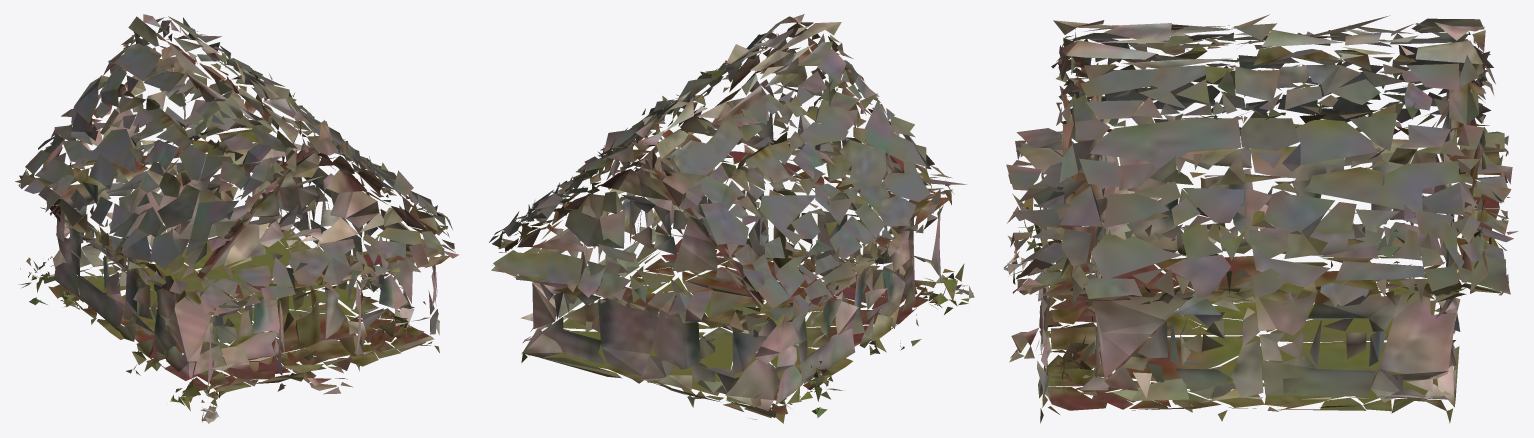
The model's file is loc_sy_creole.glb.
The picture shows the model from 3 angles, left to right: view 1: azimuth 30°, elevation 25°; view 2: azimuth 150°, elevation 25°; view 3: azimuth 270°, elevation 25°; orthographic projection. The views are drawn at different scales.
Visible parts, largest first — view 1: tripo_node_23b4cc7b-c383-4ee2-9d6a-90eb35c721df; view 2: tripo_node_23b4cc7b-c383-4ee2-9d6a-90eb35c721df; view 3: tripo_node_23b4cc7b-c383-4ee2-9d6a-90eb35c721df.
Boxes of the visible parts, x1,y1,x2,y2 form: tripo_node_23b4cc7b-c383-4ee2-9d6a-90eb35c721df: (15, 14, 459, 423); tripo_node_23b4cc7b-c383-4ee2-9d6a-90eb35c721df: (489, 14, 974, 423); tripo_node_23b4cc7b-c383-4ee2-9d6a-90eb35c721df: (1003, 14, 1518, 423).
Size of the model in its own units: 2.5 by 2.06 by 2.78.
Materials: 1 (1 with a texture image).
